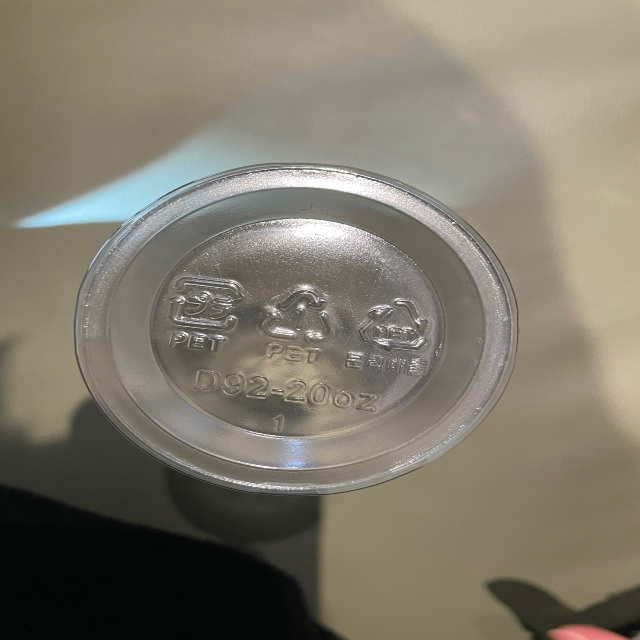pet: (343, 287, 432, 381), (256, 269, 333, 372), (162, 267, 242, 356)
